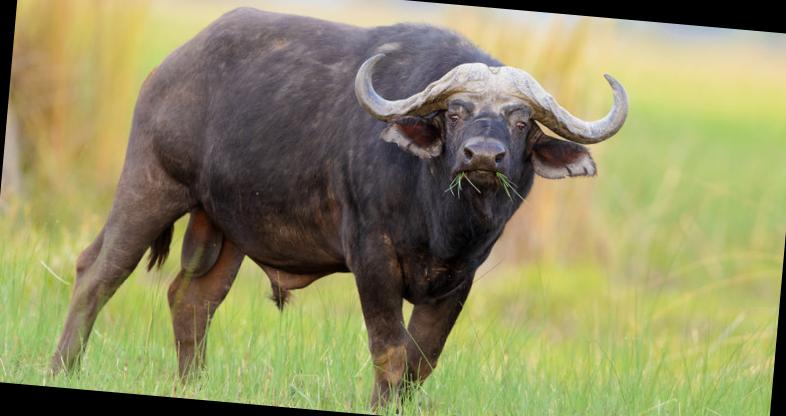Buffalo: (3, 6, 650, 415)
